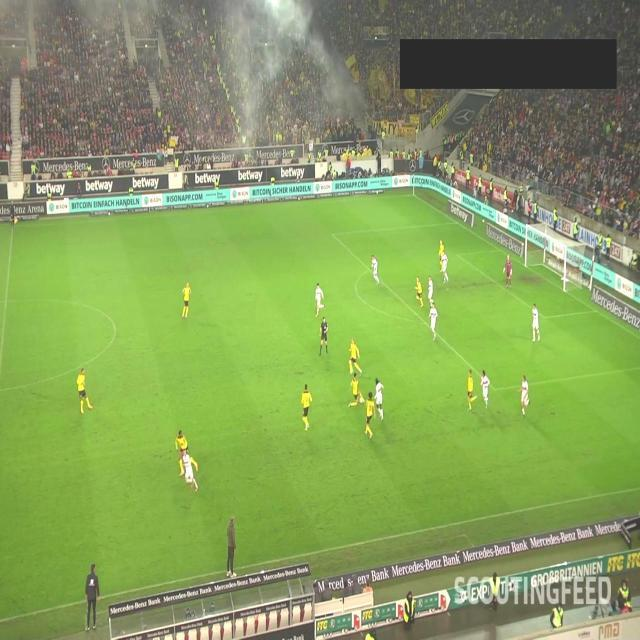ball: (359, 396, 363, 404)
team1: (76, 368, 94, 414), (175, 429, 188, 476), (364, 392, 376, 441), (301, 383, 313, 431), (348, 338, 362, 375), (350, 372, 365, 406), (467, 369, 477, 411), (181, 282, 191, 321), (414, 276, 424, 308), (438, 238, 444, 260)
team2: (182, 448, 198, 492), (517, 374, 529, 416), (374, 377, 384, 421), (428, 302, 438, 342), (480, 370, 490, 410), (315, 282, 325, 318), (532, 302, 540, 342), (370, 253, 380, 284), (441, 250, 449, 284), (428, 275, 433, 305)
